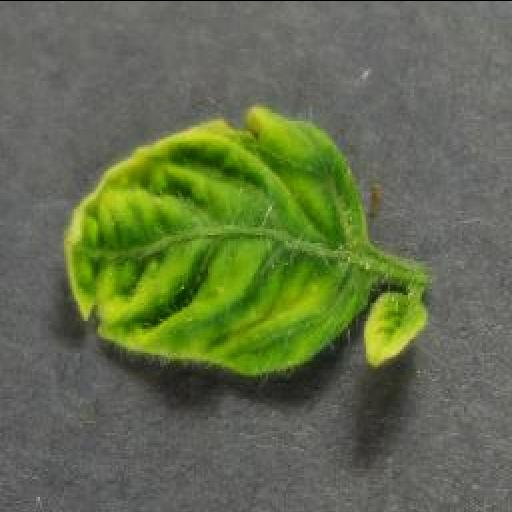disease_tomato: (62, 104, 374, 376), (364, 290, 432, 364)
